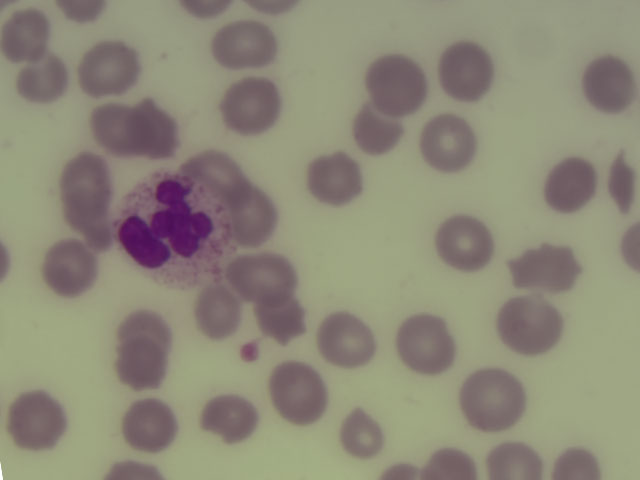Platelets: (235, 335, 265, 370)
RBC: (57, 156, 115, 226), (228, 181, 278, 248), (434, 215, 491, 268), (500, 299, 557, 352), (518, 239, 575, 292), (541, 160, 598, 213), (583, 58, 640, 111), (418, 114, 475, 167), (348, 106, 405, 159), (463, 369, 520, 422), (394, 316, 451, 369), (248, 295, 305, 348), (234, 251, 291, 304), (319, 312, 376, 365), (334, 407, 391, 460), (267, 365, 324, 418), (201, 390, 258, 443), (122, 399, 179, 452), (114, 339, 171, 392), (8, 394, 65, 447), (441, 46, 498, 99), (367, 56, 424, 109), (307, 152, 364, 205), (186, 143, 243, 196), (42, 243, 99, 296), (223, 80, 280, 133), (215, 20, 272, 73), (78, 43, 135, 96), (14, 53, 71, 106), (192, 284, 239, 344), (130, 101, 176, 159), (484, 436, 544, 480), (113, 313, 172, 354), (605, 146, 638, 219), (93, 103, 137, 154), (547, 443, 605, 480), (1, 8, 41, 59), (418, 445, 473, 480), (616, 221, 640, 273)
WBC: (115, 172, 227, 290)
